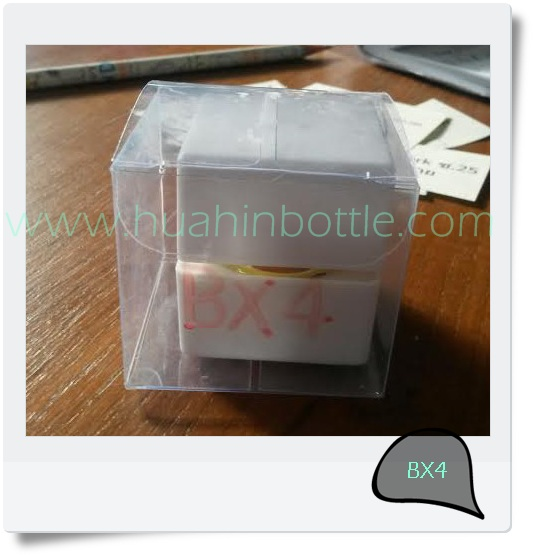PlasticBox: (101, 77, 423, 404)
